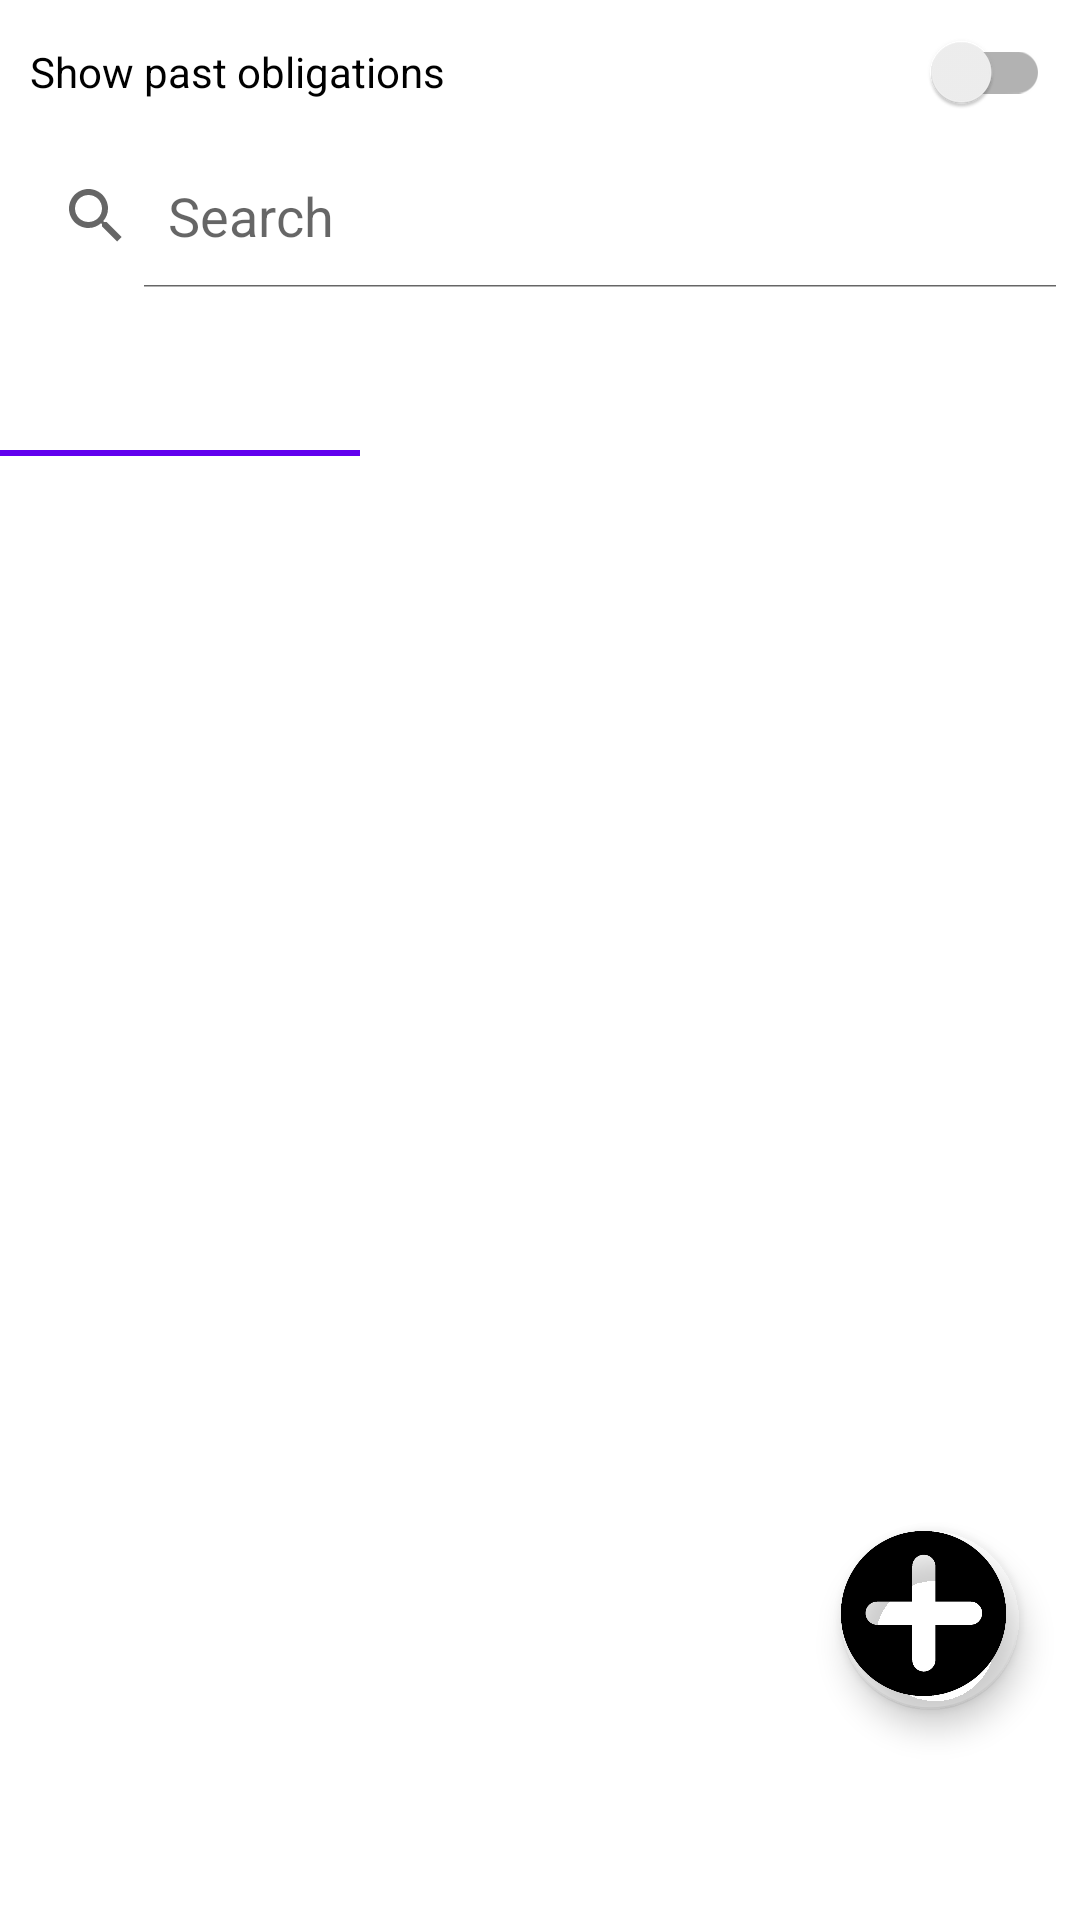

Screen size 1080 x 1920. Icon name, then its center in pixels as (x=x, y=y):
add: (x=930, y=1620)
